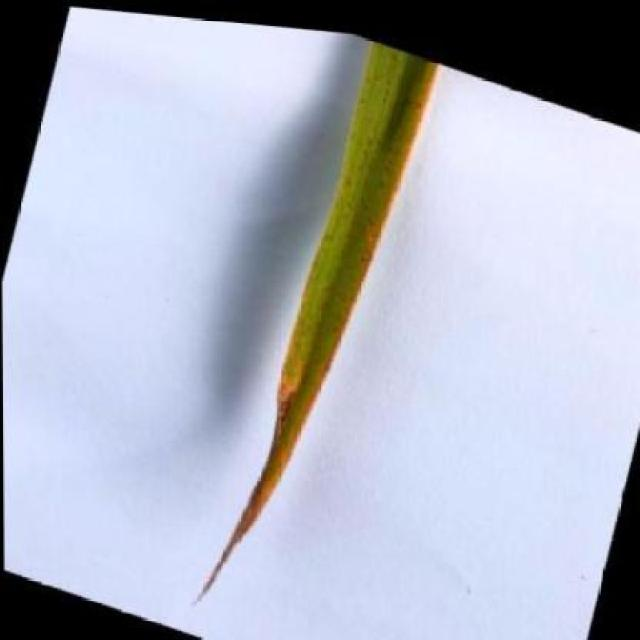Rice False Smut: (192, 15, 440, 640)
